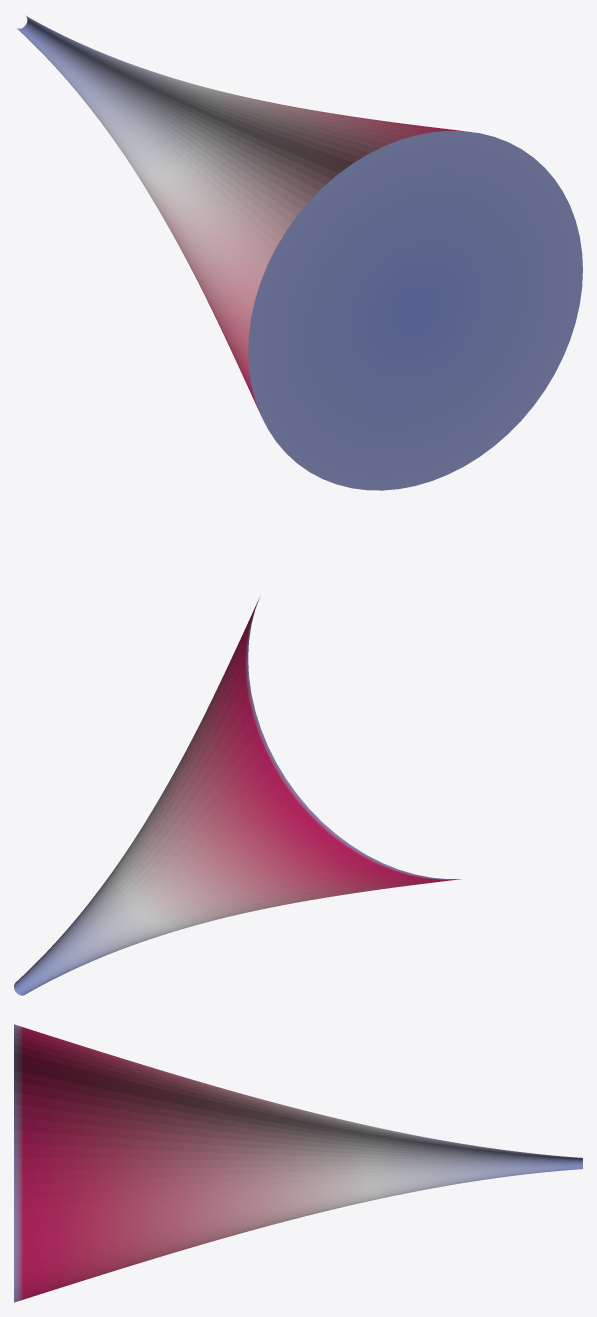
The model's file is frame_000.glb.
3 views of the same model, one above another, from view 1: azimuth 30°, elevation 25°; view 2: azimuth 150°, elevation 25°; view 3: azimuth 270°, elevation 25° (orthographic). The views are drawn at different scales.
Parts seen in each view (by area): view 1: world; view 2: world; view 3: world.
Boxes of the visible parts, x1,y1,x2,y2 form: world: (16, 15, 582, 490); world: (14, 597, 461, 995); world: (14, 1024, 582, 1302).
Size of the model in its own units: 0.4895 by 0.4897 by 1.
